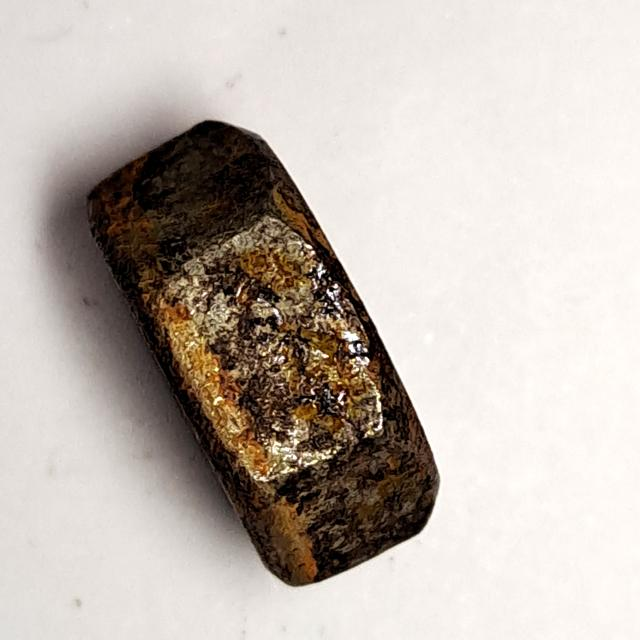Side_Rust: (70, 104, 461, 598)
